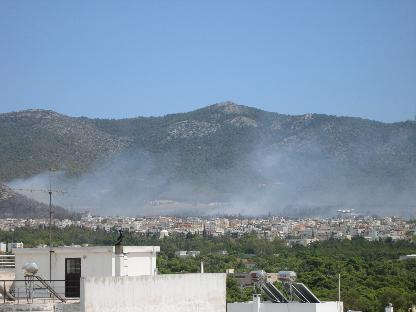B52: (336, 208, 354, 212)
